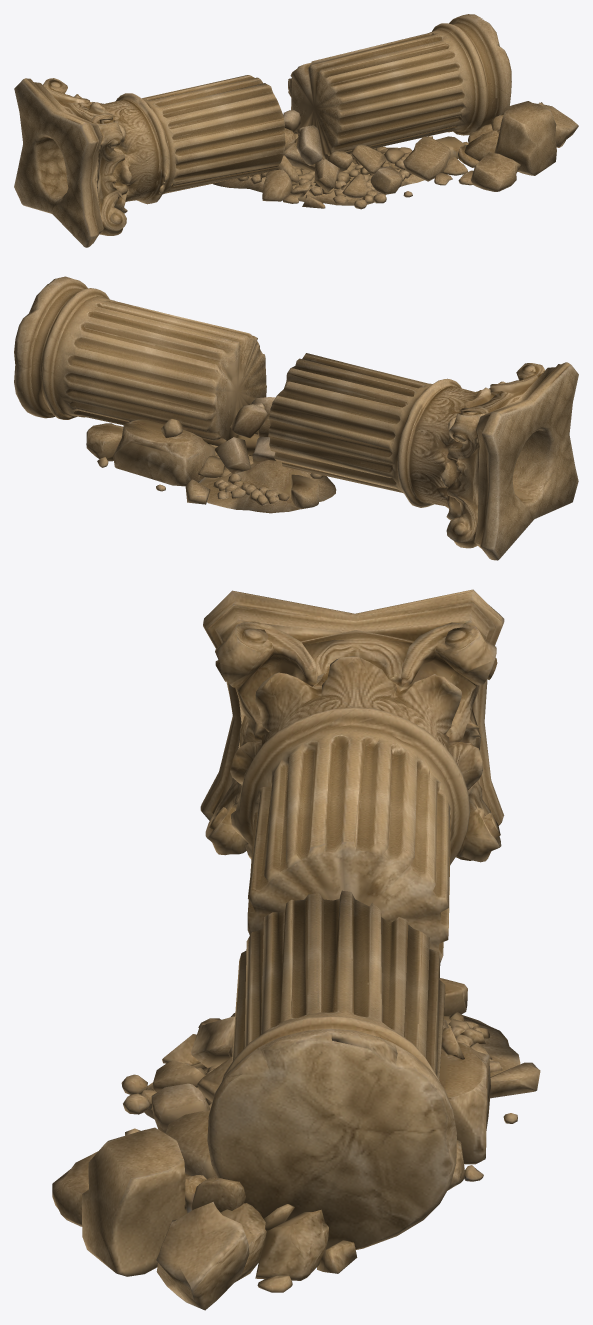
The model's file is ColonneTombee.glb.
The picture shows the model from 3 angles, top to bottom: view 1: azimuth 30°, elevation 25°; view 2: azimuth 150°, elevation 25°; view 3: azimuth 270°, elevation 25°; orthographic projection. The views are drawn at different scales.
Size of the model in its own units: 0.9561 by 0.2407 by 0.4136.
Materials: 1 (1 with a texture image).
